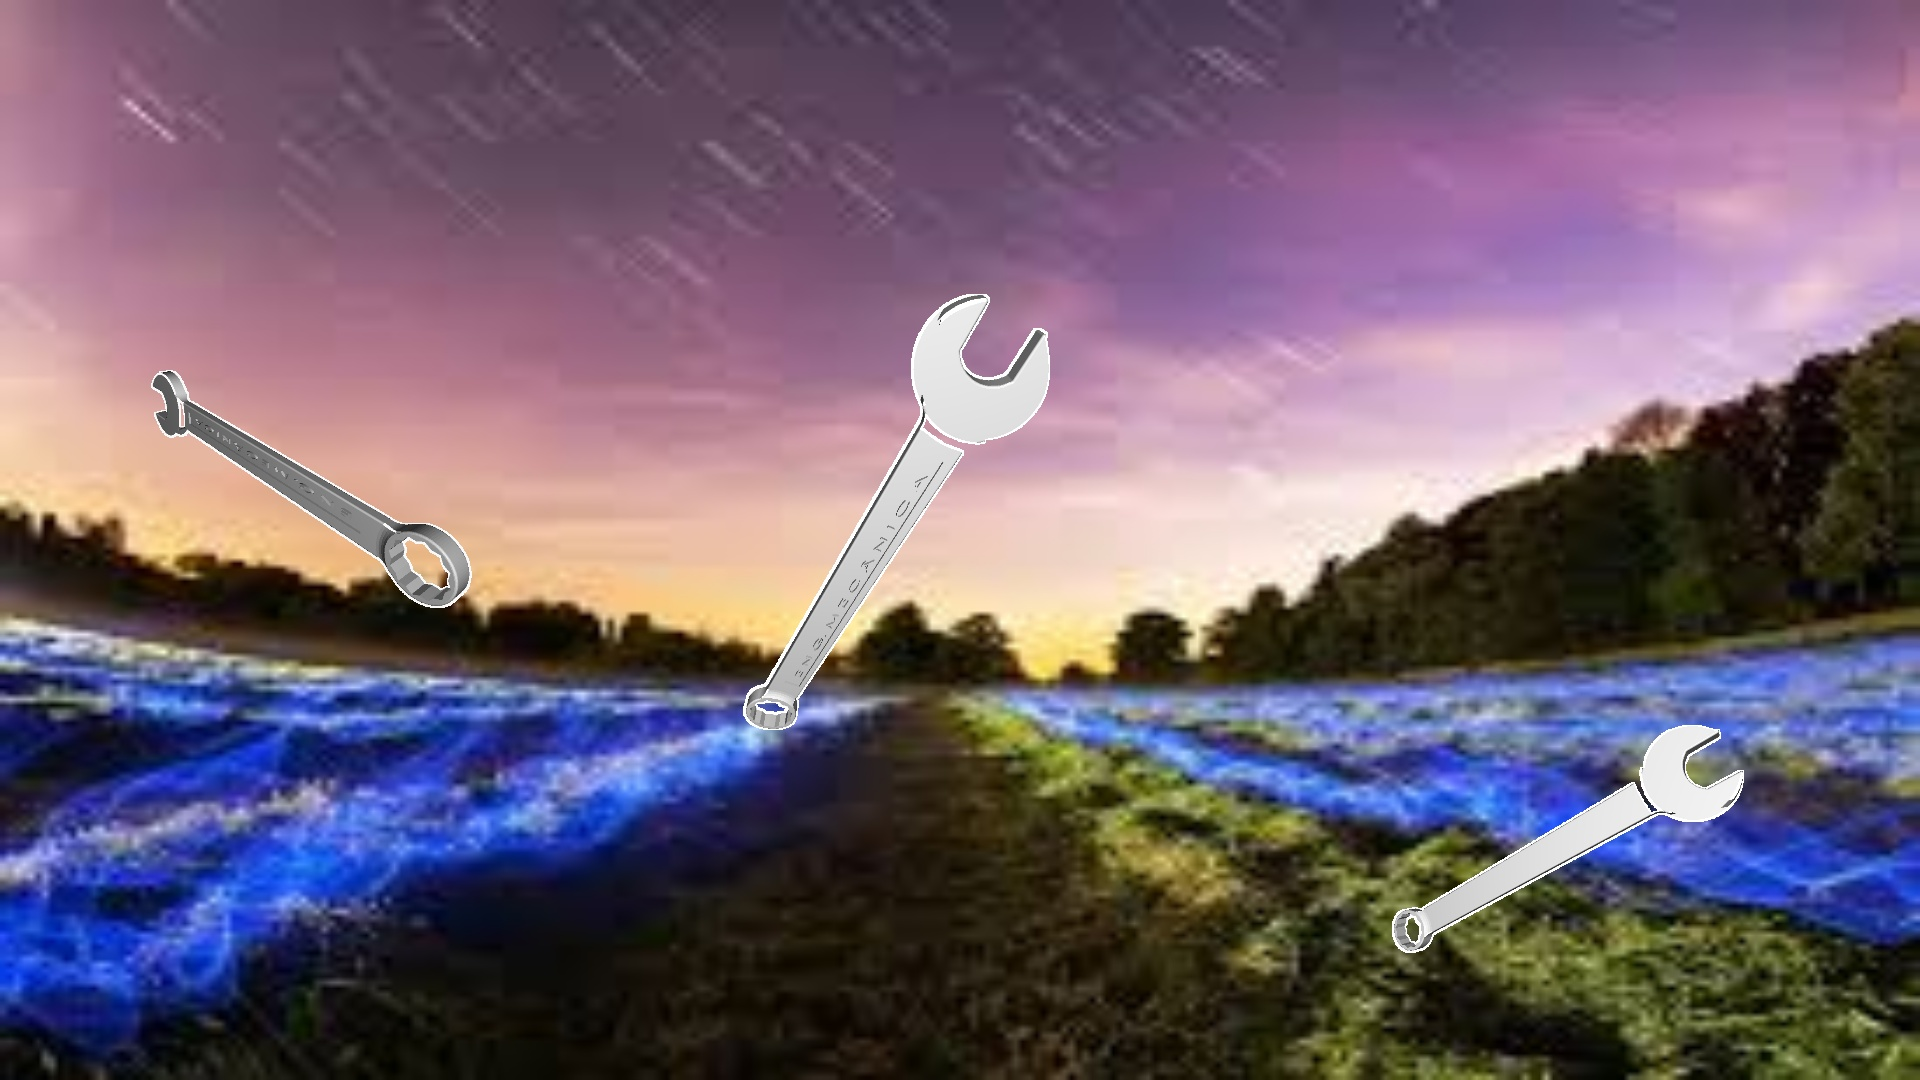Mixed Key: (742, 294, 1048, 729), (1393, 725, 1743, 952), (152, 371, 471, 607)
